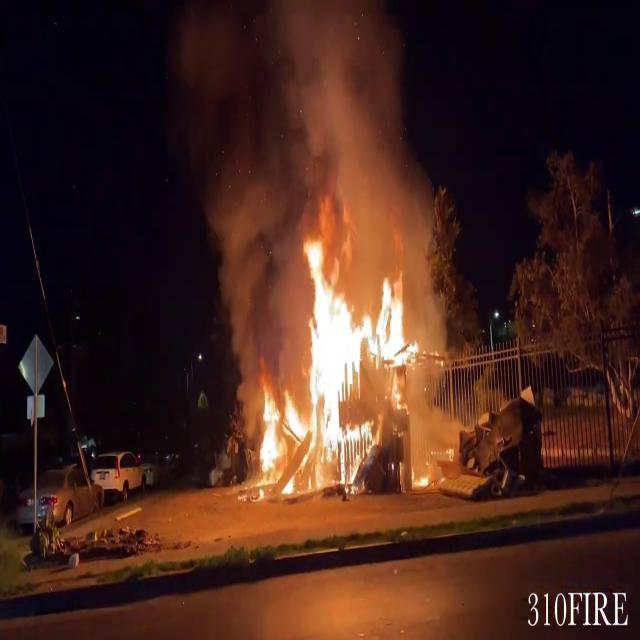Fire: (253, 202, 432, 498)
Smoke: (165, 1, 438, 330)
